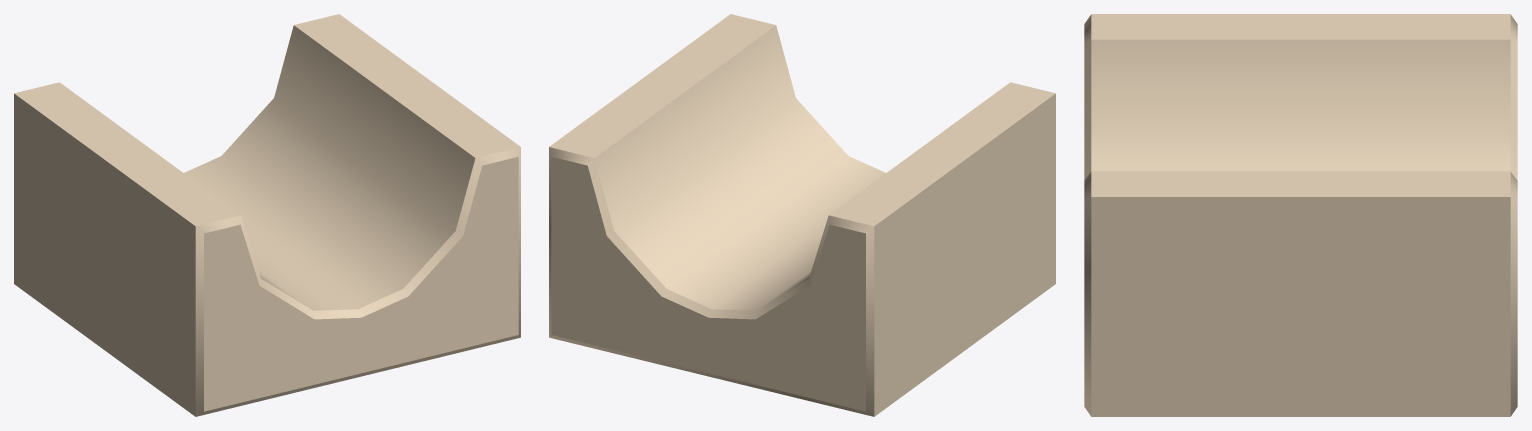
File: track_straight_short_a05.glb
The picture shows the model from 3 angles, left to right: view 1: azimuth 30°, elevation 25°; view 2: azimuth 150°, elevation 25°; view 3: azimuth 270°, elevation 25°; orthographic projection. The views are drawn at different scales.
Visible parts, largest first — view 1: Straight - Short; view 2: Straight - Short; view 3: Straight - Short.
Part boxes in pixels (left/top/right/bottom): Straight - Short: left=14, top=14, right=520, bottom=416; Straight - Short: left=549, top=14, right=1055, bottom=416; Straight - Short: left=1084, top=14, right=1517, bottom=416.
Size of the model in its own units: 2 by 1.12 by 2.
